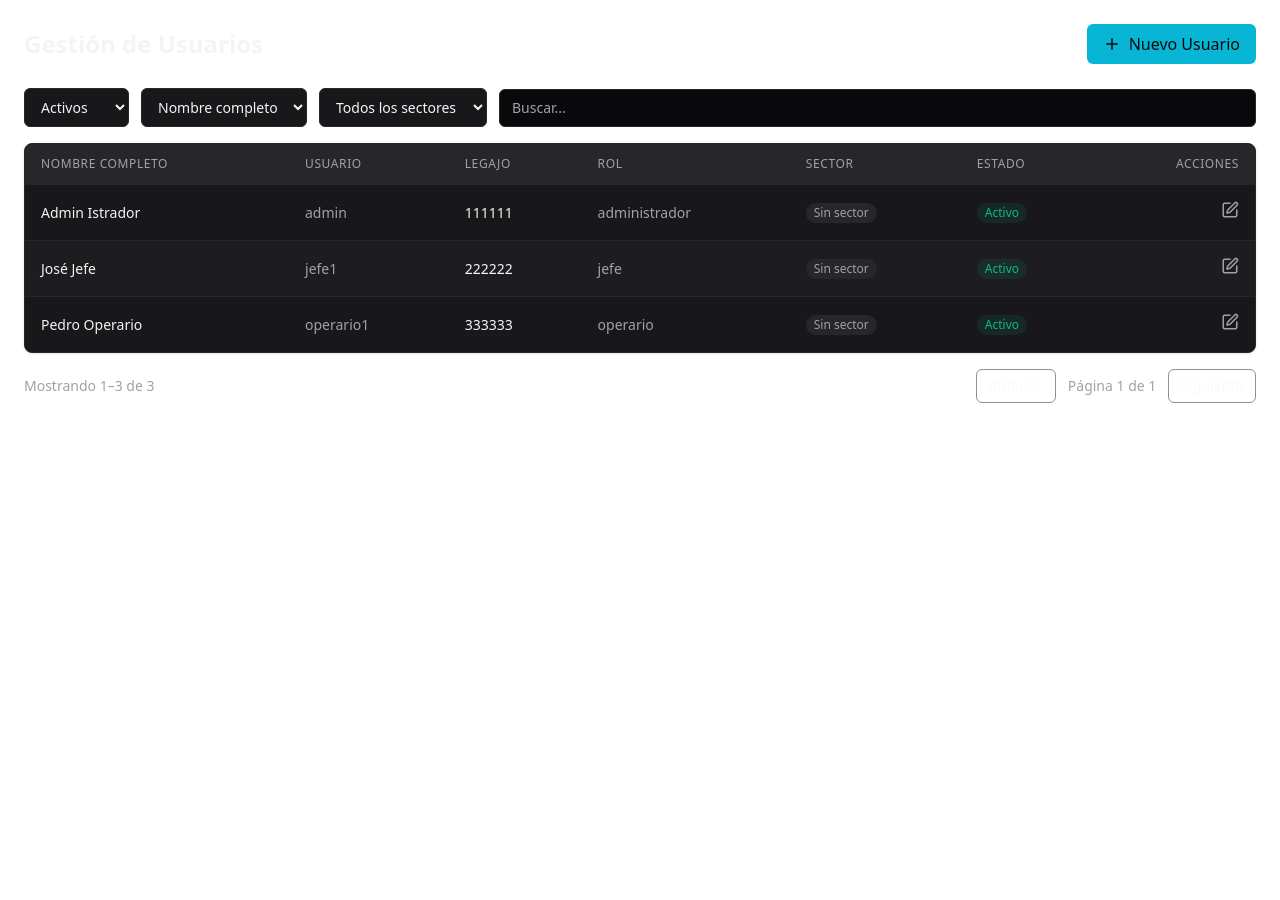
Test: UsuariosPage › validation errors from the API › keeps showing only the message when the API sends no field details
This screenshot has width=1280, height=900.
Click the button titled "Editar" in the row of "Admin Istrador" at x=1230, y=210, box [1221, 201, 1239, 219]
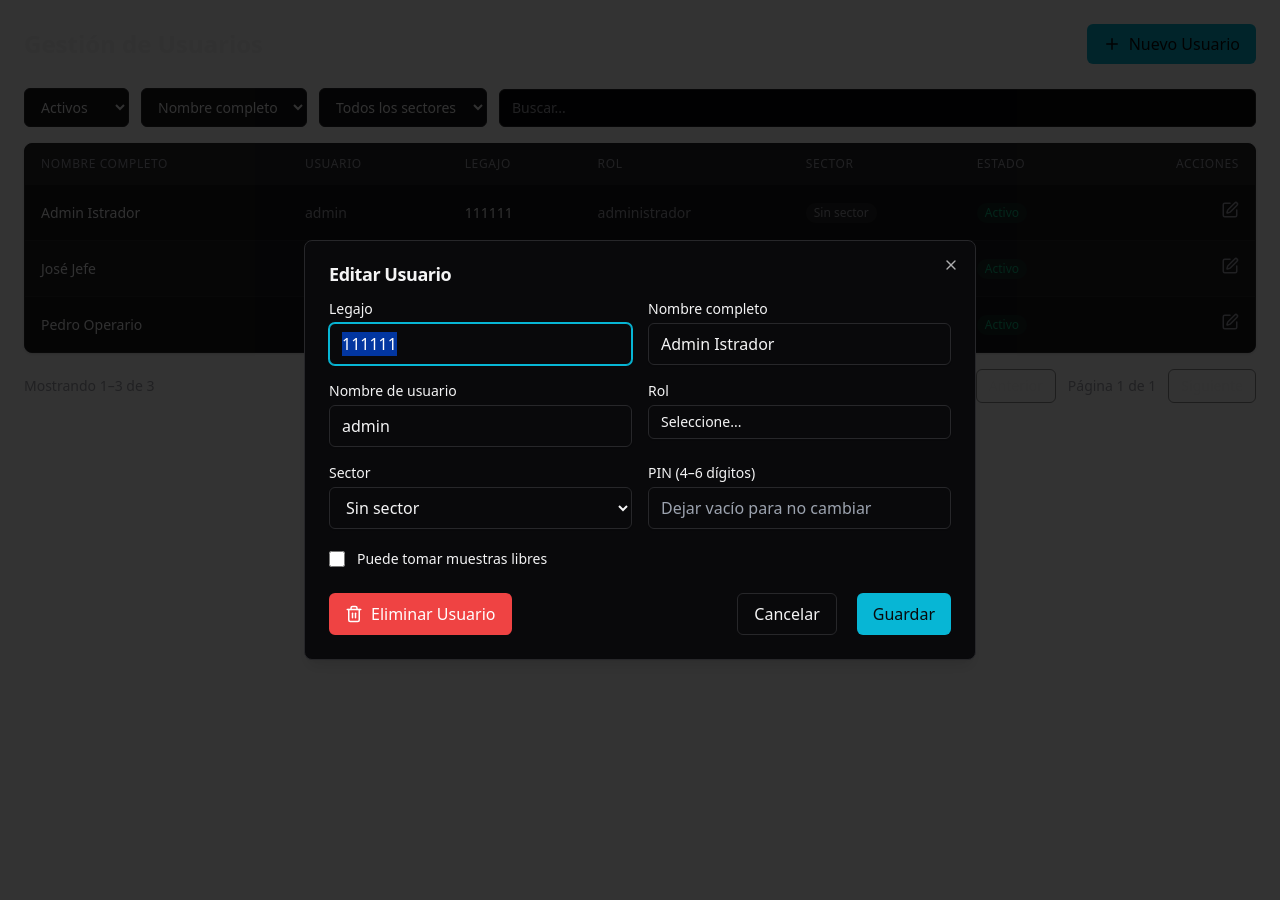
Click the button "Guardar" at x=904, y=614, box [857, 593, 951, 635]
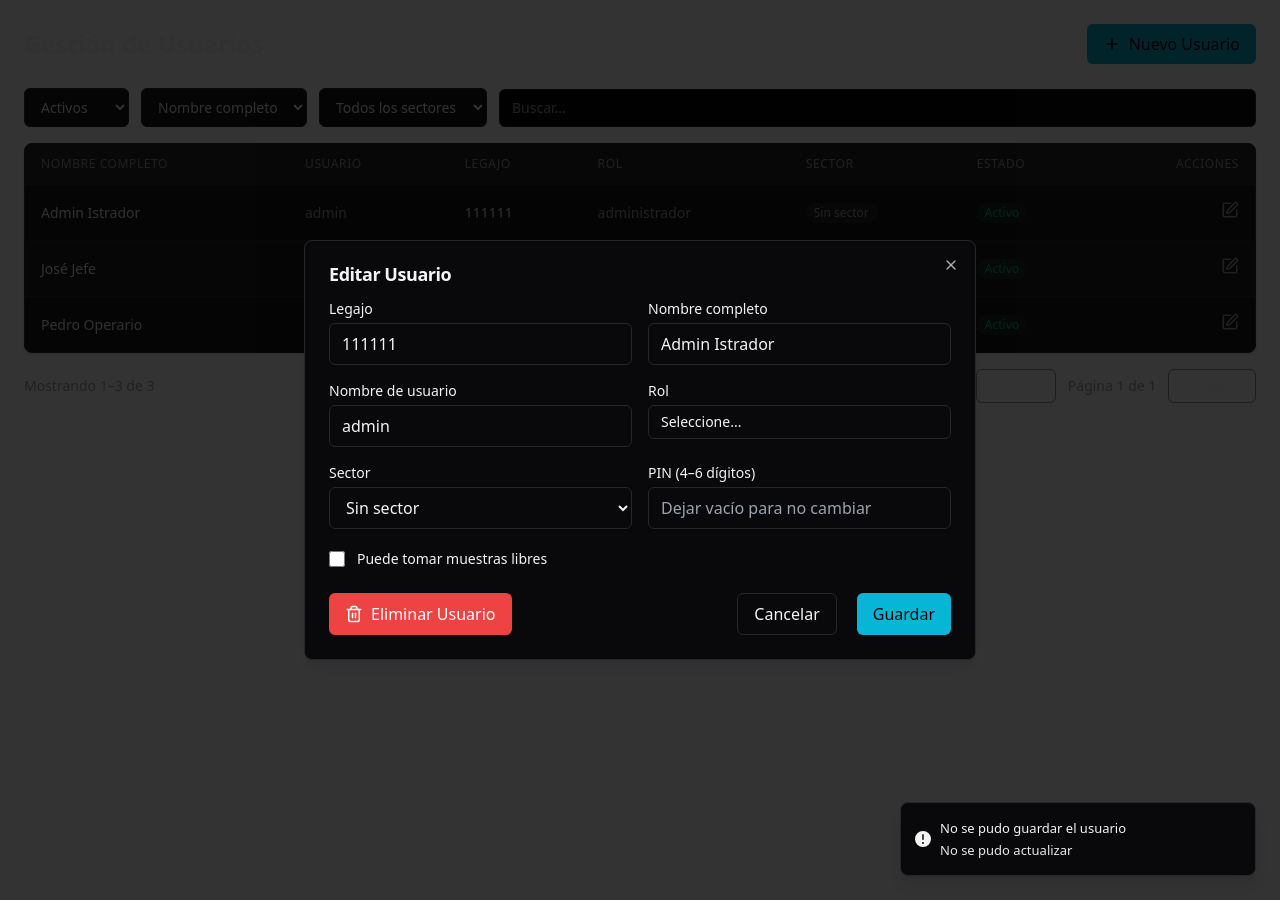
Now the text "No se pudo actualizar" is shown, box [940, 841, 1072, 859]
